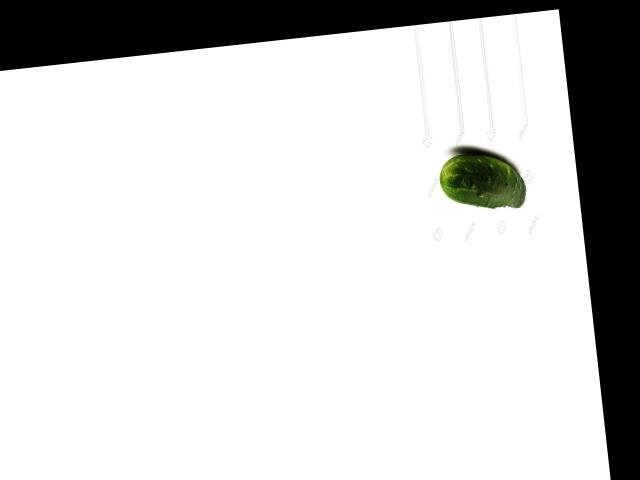cucumber: (436, 147, 527, 215)
